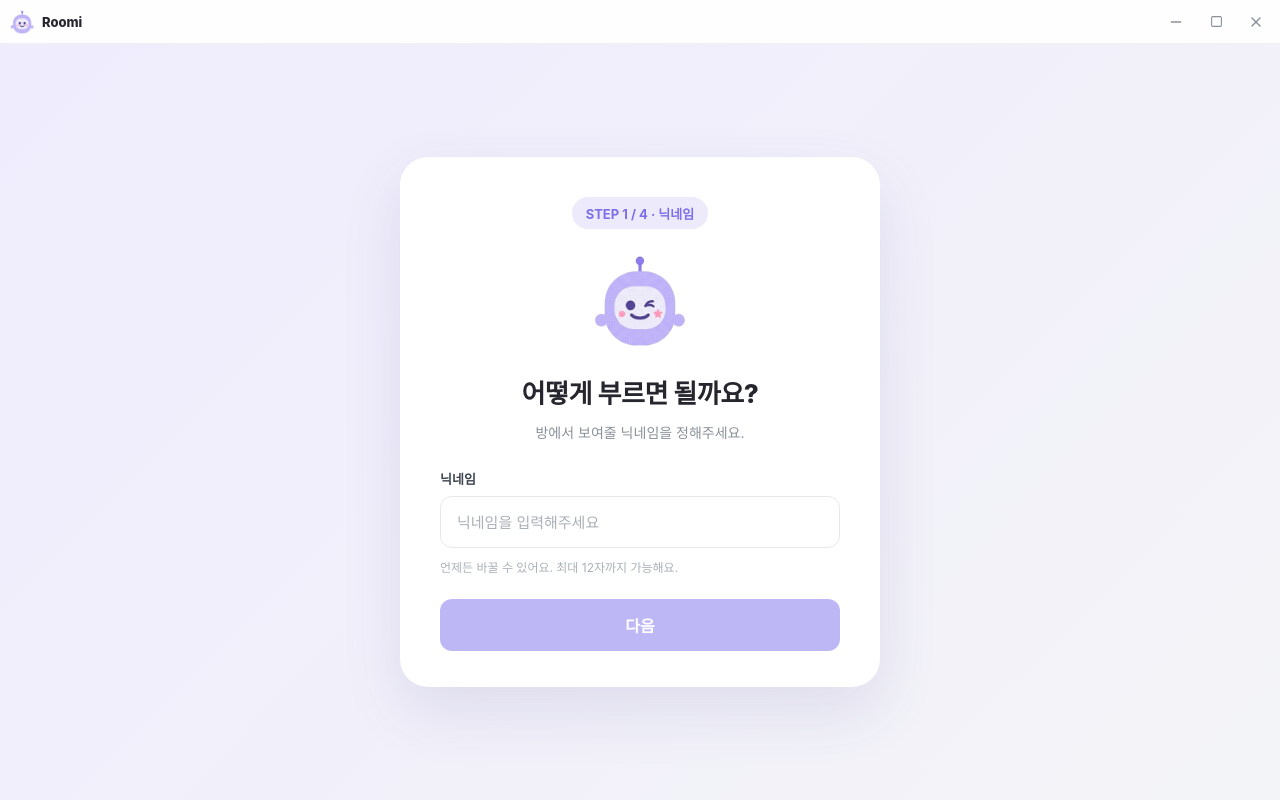
Test case: App screen router › continues from nickname onboarding when pressing enter
Type "소요" into the field labelled "닉네임" at (640, 522), box [440,496,840,548]
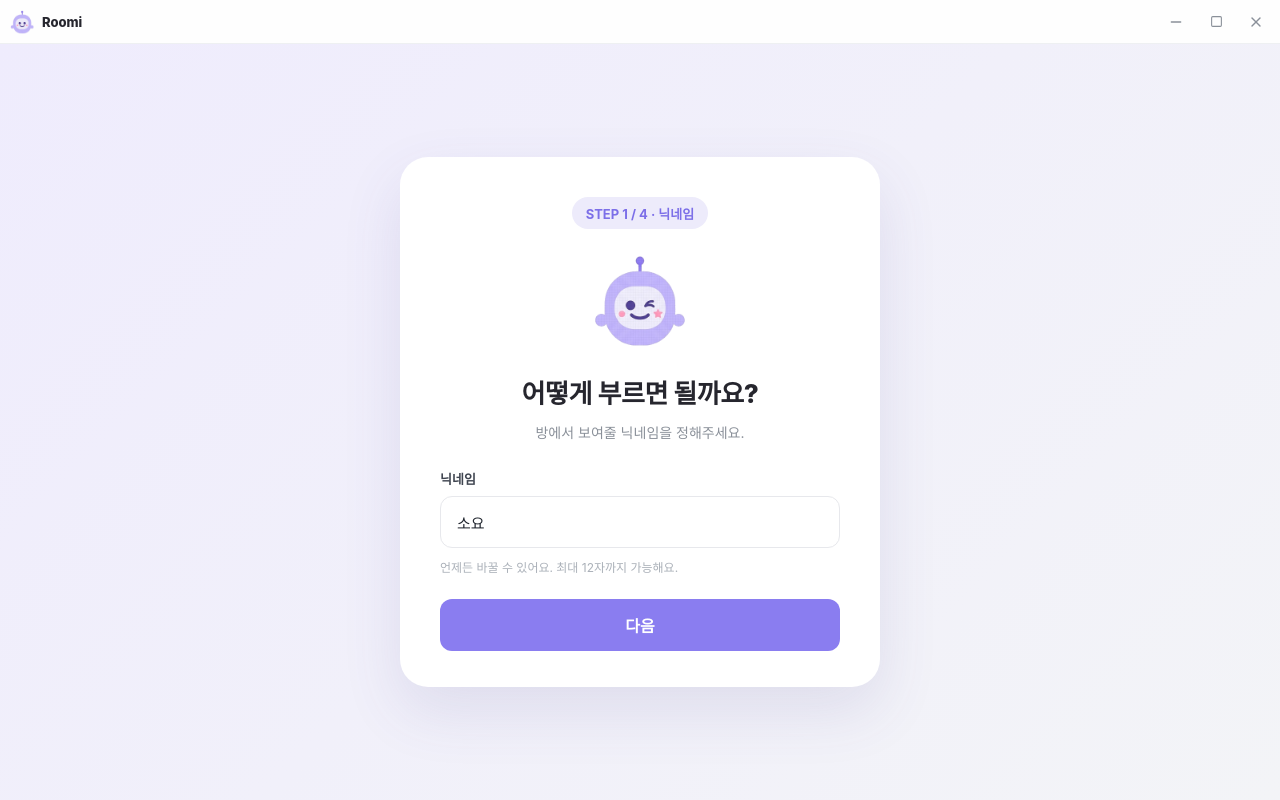
Submit the form named "다음", box [400,157,880,687]
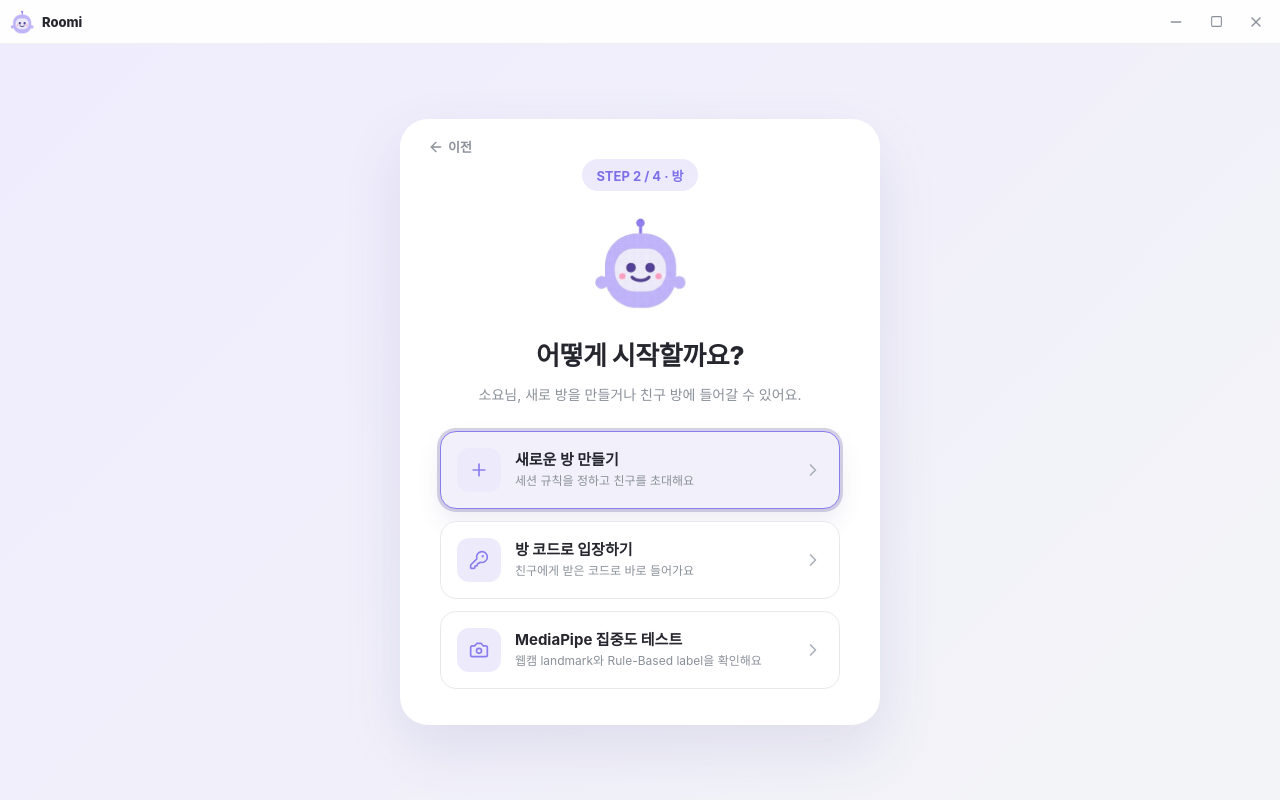
Now the text "소요님, 새로 방을 만들거나 친구 방에 들어갈 수 있어요." is shown, box [478,386,801,403]
